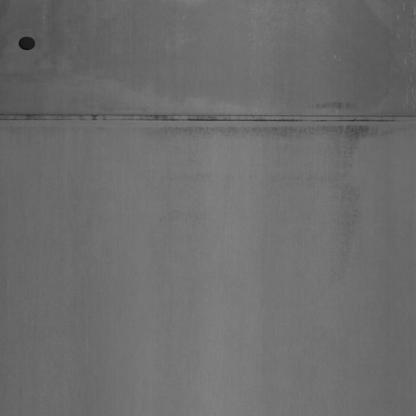punching_hole: (15, 30, 38, 61)
welding_line: (1, 103, 414, 142)
